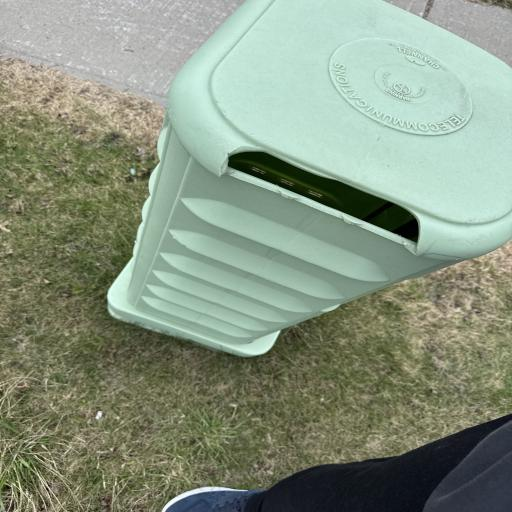Electrical Box: (107, 2, 512, 359)
